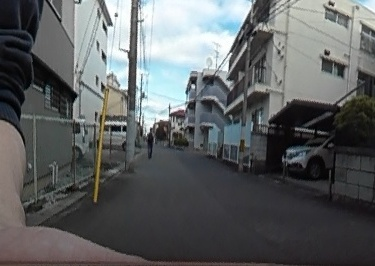person: (145, 126, 155, 159)
